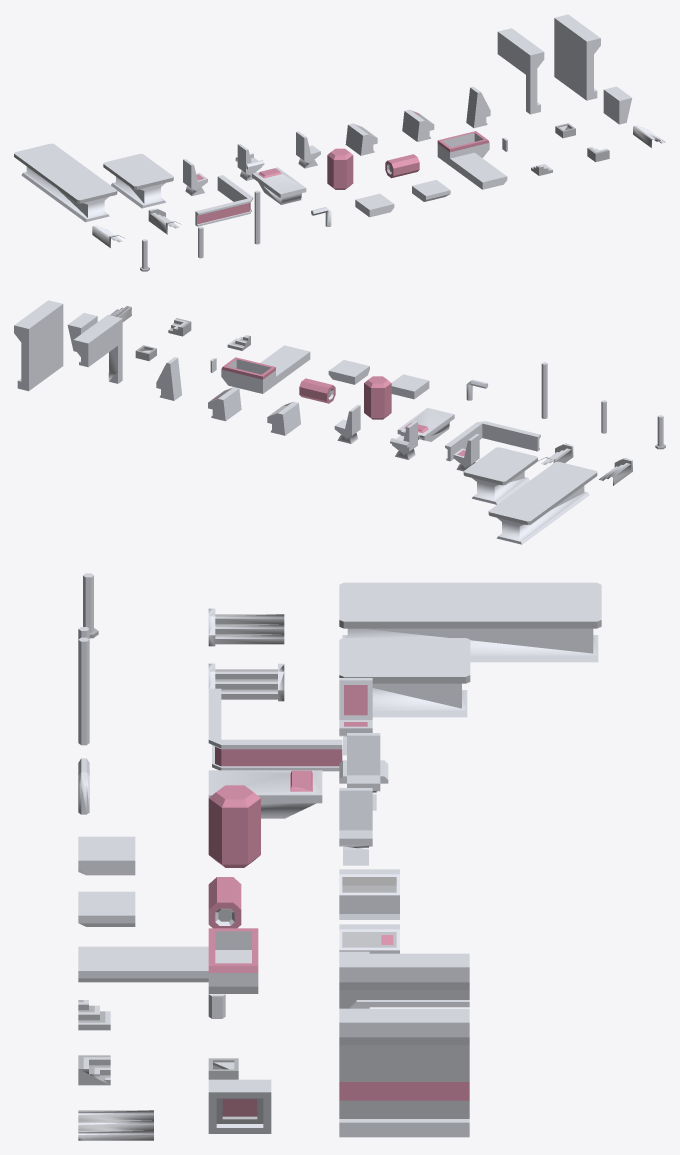
Rendered from space-set.gltf.
3 renders of one model, top to bottom at view 1: azimuth 30°, elevation 25°; view 2: azimuth 150°, elevation 25°; view 3: azimuth 270°, elevation 25°, orthographic. The views are drawn at different scales.
Visible parts, largest first — view 1: 021, 030, 022, 029, 013, 007, 014, 017, 015, 020, 026, 027 (+8 smaller); view 2: 021, 030, 022, 029, 013, 017, 015, 014, 007, 027, 026, 028 (+10 smaller); view 3: 021, 030, 022, 029, 013, 007, 015, 014, 020, 017, 026, 025 (+12 smaller).
Part boxes in pixels (bbox=[...]): 021: bbox=[14, 143, 117, 222]; 030: bbox=[554, 14, 600, 100]; 022: bbox=[103, 153, 173, 208]; 029: bbox=[497, 28, 544, 114]; 013: bbox=[195, 175, 253, 226]; 007: bbox=[450, 152, 507, 189]; 014: bbox=[252, 167, 306, 204]; 017: bbox=[437, 131, 489, 165]; 015: bbox=[327, 148, 353, 189]; 020: bbox=[603, 86, 632, 124]; 026: bbox=[345, 123, 377, 155]; 027: bbox=[402, 109, 434, 141]; 021: bbox=[488, 461, 597, 544]; 030: bbox=[14, 300, 63, 391]; 022: bbox=[463, 447, 537, 504]; 029: bbox=[73, 315, 122, 383]; 013: bbox=[445, 421, 540, 461]; 017: bbox=[221, 357, 275, 393]; 015: bbox=[364, 376, 391, 419]; 014: bbox=[397, 408, 454, 441]; 007: bbox=[260, 345, 310, 384]; 027: bbox=[208, 387, 241, 421]; 026: bbox=[267, 401, 300, 435]; 028: bbox=[156, 357, 181, 400]; 021: bbox=[339, 582, 601, 662]; 030: bbox=[339, 1008, 469, 1137]; 022: bbox=[339, 638, 470, 717]; 029: bbox=[339, 953, 469, 1008]; 013: bbox=[208, 688, 342, 771]; 007: bbox=[78, 946, 208, 982]; 015: bbox=[208, 785, 260, 867]; 014: bbox=[208, 770, 322, 818]; 020: bbox=[208, 1079, 271, 1133]; 017: bbox=[208, 928, 258, 993]; 026: bbox=[339, 869, 399, 919]; 025: bbox=[339, 788, 372, 865].
Size of the model in its own units: 9.25 by 1 by 4.01.
